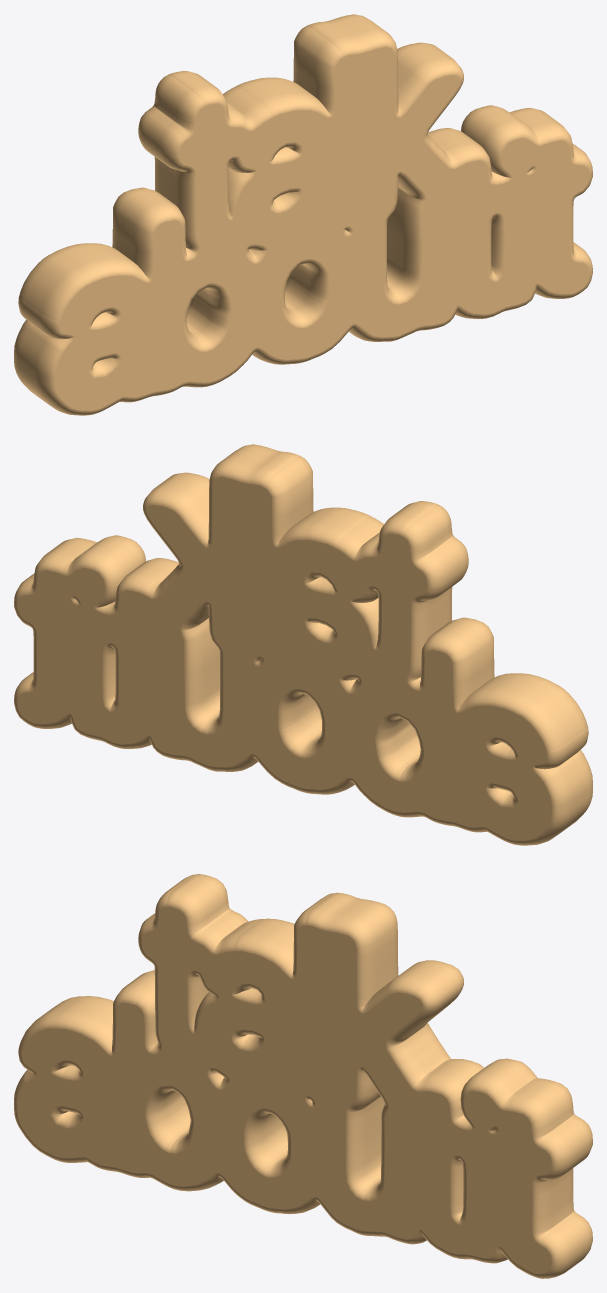
File: talk-about-it.glb
3 renders of one model, top to bottom at view 1: azimuth 30°, elevation 25°; view 2: azimuth 150°, elevation 25°; view 3: azimuth 330°, elevation 25°, orthographic.
Parts seen in each view (by area): view 1: talk about it; view 2: talk about it; view 3: talk about it.
Part boxes in pixels (x1=…): talk about it: x1=14, y1=14, x2=592, y2=415; talk about it: x1=14, y1=444, x2=592, y2=845; talk about it: x1=14, y1=874, x2=592, y2=1278.
Bounding box in the file's own units: 507 × 274 × 60.
